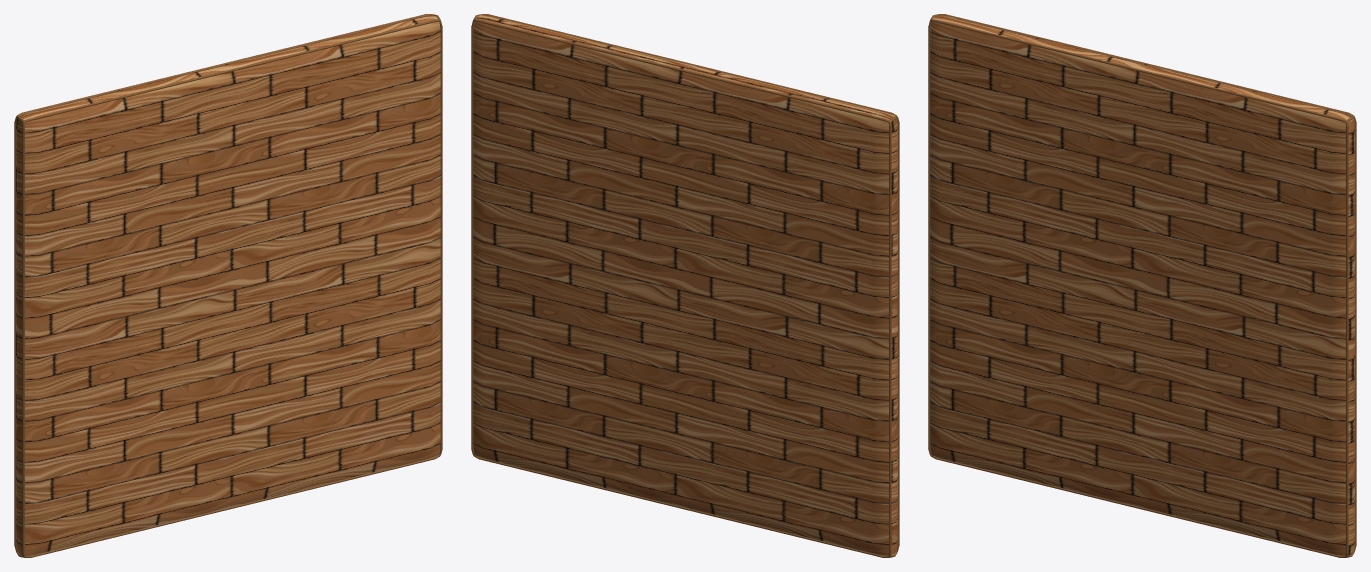
The model's file is SM_FoamWall_2x2.fbx.
3 renders of one model, left to right at view 1: azimuth 30°, elevation 25°; view 2: azimuth 150°, elevation 25°; view 3: azimuth 330°, elevation 25°, orthographic.
Parts seen in each view (by area): view 1: SM_SoftFoam_Wall_10_2x2; view 2: SM_SoftFoam_Wall_10_2x2; view 3: SM_SoftFoam_Wall_10_2x2.
Boxes of the visible parts, box(x1,y1,x2,y2) form: SM_SoftFoam_Wall_10_2x2: box(14, 14, 442, 557); SM_SoftFoam_Wall_10_2x2: box(471, 14, 899, 557); SM_SoftFoam_Wall_10_2x2: box(928, 14, 1356, 557).
Bounding box in the file's own units: 183 × 183 × 10.
